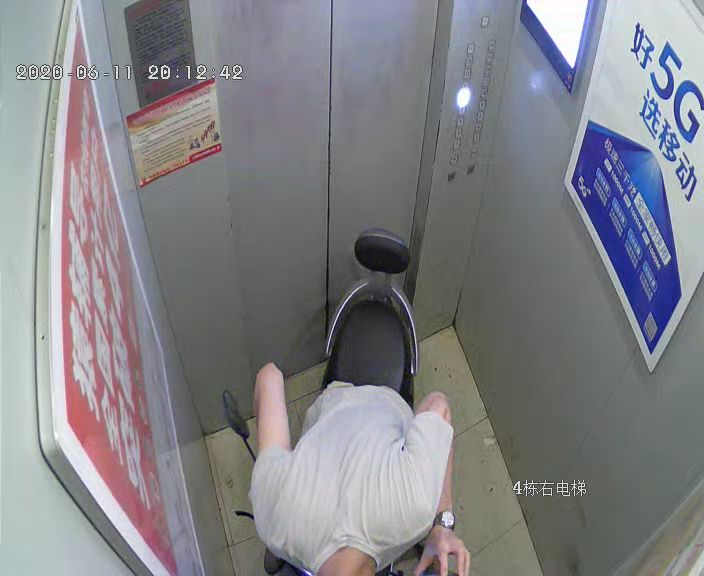Electric-bicycle: (222, 225, 422, 470)
